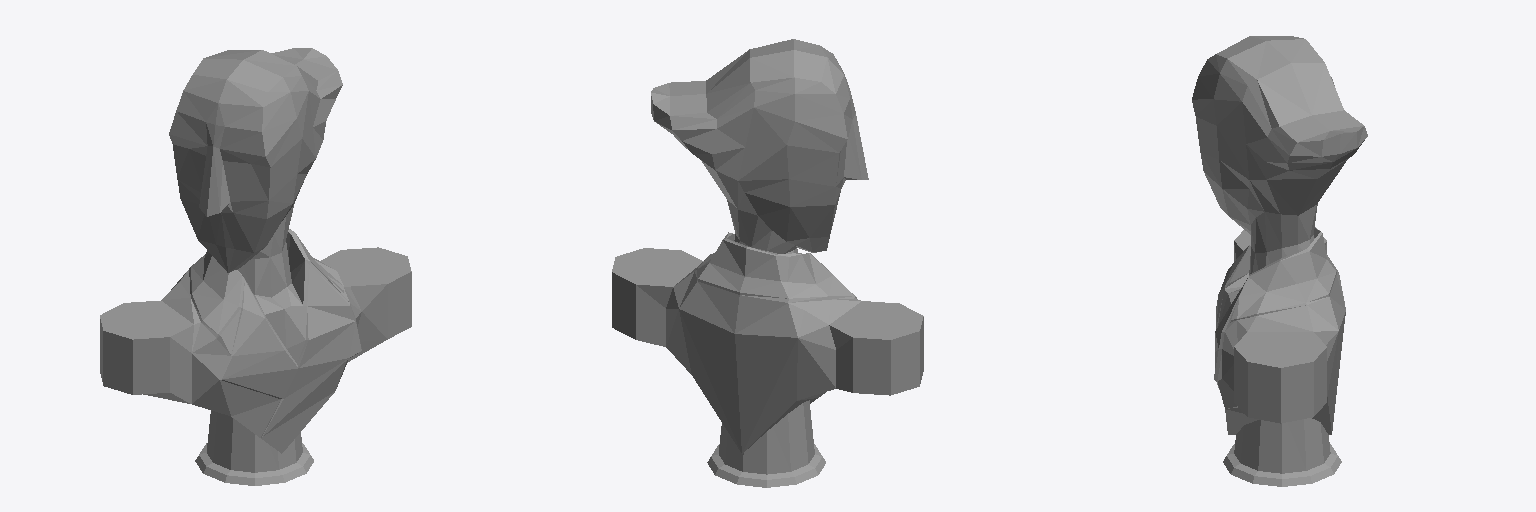
The model's file is bust.obj.
3 views of the same model, side by side, from view 1: azimuth 30°, elevation 25°; view 2: azimuth 150°, elevation 25°; view 3: azimuth 270°, elevation 25° (orthographic).
Visible parts, largest first — view 1: s4studio_mesh_1; view 2: s4studio_mesh_1; view 3: s4studio_mesh_1.
Part boxes in pixels (x1,y1,x2,y2): s4studio_mesh_1: (100,48,411,485); s4studio_mesh_1: (612,39,923,487); s4studio_mesh_1: (1192,36,1367,486).
Size of the model in its own units: 0.2894 by 0.374 by 0.1454.